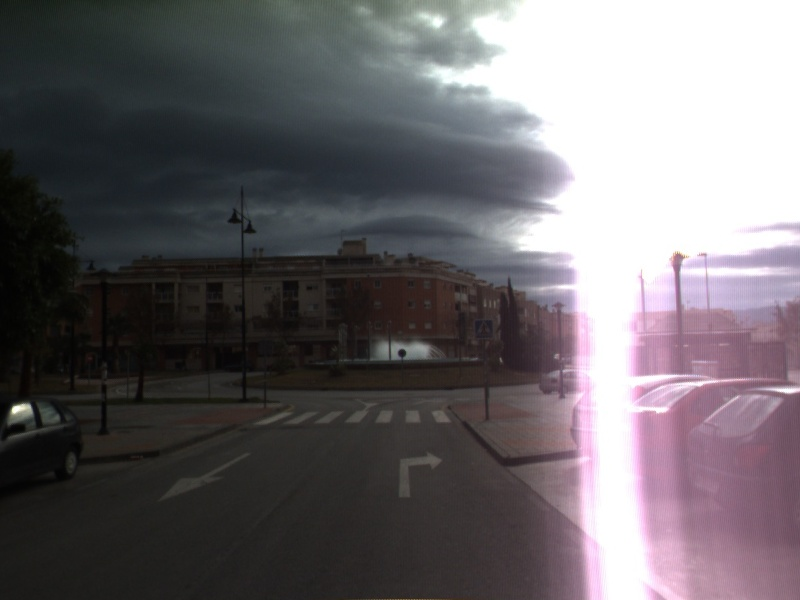RIGHT: (397, 449, 445, 500)
